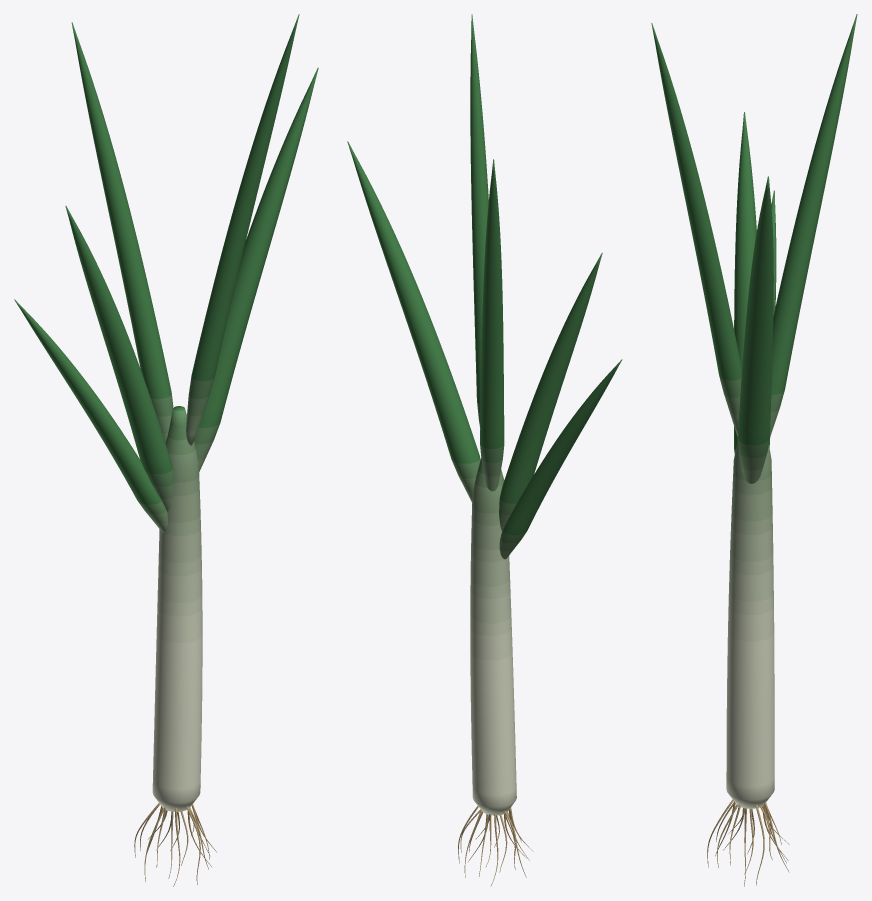
3 views of the same model, side by side, from view 1: azimuth 30°, elevation 25°; view 2: azimuth 150°, elevation 25°; view 3: azimuth 270°, elevation 25° (orthographic). The views are drawn at different scales.
Visible parts, largest first — view 1: Long white sheathed stalk and basal plate, Attached hollow tubular leaf 03, Attached hollow tubular leaf 04, Attached hollow tubular leaf 02, Attached hollow tubular leaf 01, Attached hollow tubular leaf 05; view 2: Long white sheathed stalk and basal plate, Attached hollow tubular leaf 02, Attached hollow tubular leaf 03, Attached hollow tubular leaf 01, Attached hollow tubular leaf 04, Attached hollow tubular leaf 05; view 3: Long white sheathed stalk and basal plate, Attached hollow tubular leaf 02, Attached hollow tubular leaf 03, Attached hollow tubular leaf 04, Attached hollow tubular leaf 01, Attached hollow tubular leaf 05.
Boxes of the visible parts, box(x1,y1,x2,y2) form: Long white sheathed stalk and basal plate: box(152, 406, 202, 811); Attached hollow tubular leaf 03: box(71, 22, 173, 442); Attached hollow tubular leaf 04: box(186, 14, 299, 445); Attached hollow tubular leaf 02: box(194, 67, 318, 472); Attached hollow tubular leaf 01: box(65, 206, 174, 511); Attached hollow tubular leaf 05: box(14, 299, 167, 532); Long white sheathed stalk and basal plate: box(470, 458, 516, 815); Attached hollow tubular leaf 02: box(347, 141, 480, 502); Attached hollow tubular leaf 03: box(480, 159, 504, 491); Attached hollow tubular leaf 01: box(499, 252, 602, 531); Attached hollow tubular leaf 04: box(470, 14, 488, 428); Attached hollow tubular leaf 05: box(499, 359, 622, 559); Long white sheathed stalk and basal plate: box(726, 442, 774, 808); Attached hollow tubular leaf 02: box(737, 176, 773, 483); Attached hollow tubular leaf 03: box(770, 14, 857, 436); Attached hollow tubular leaf 04: box(651, 23, 741, 436); Attached hollow tubular leaf 01: box(734, 112, 756, 453); Attached hollow tubular leaf 05: box(769, 190, 776, 447).
Size of the model in its own units: 0.2476 by 0.6879 by 0.1454.
